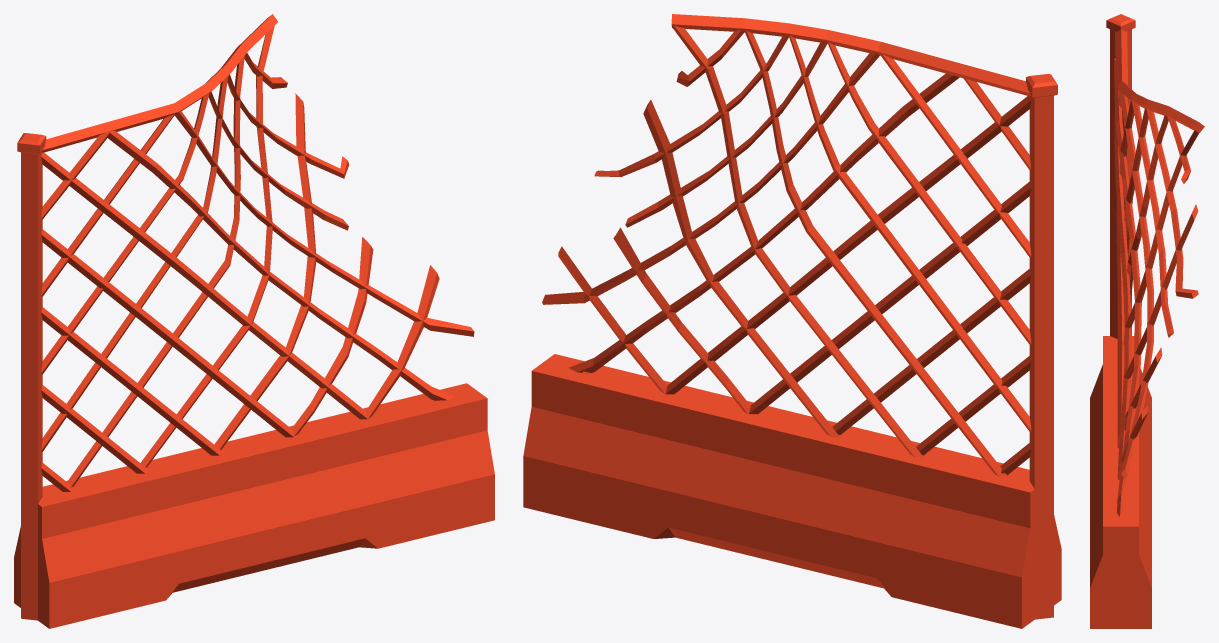
File: SM_Fence_Construction_Broken_Low_2m_City.fbx
3 views of the same model, side by side, from view 1: azimuth 30°, elevation 25°; view 2: azimuth 150°, elevation 25°; view 3: azimuth 270°, elevation 25° (orthographic). The views are drawn at different scales.
Parts seen in each view (by area): view 1: SM_Fence_Construction_Broken_Low_2m_City; view 2: SM_Fence_Construction_Broken_Low_2m_City; view 3: SM_Fence_Construction_Broken_Low_2m_City.
Part boxes in pixels (bbox=[...]): SM_Fence_Construction_Broken_Low_2m_City: bbox=[14, 14, 494, 628]; SM_Fence_Construction_Broken_Low_2m_City: bbox=[523, 14, 1061, 628]; SM_Fence_Construction_Broken_Low_2m_City: bbox=[1090, 14, 1204, 628].
Bounding box in the file's own units: 2.06 × 2.14 × 0.5094.
